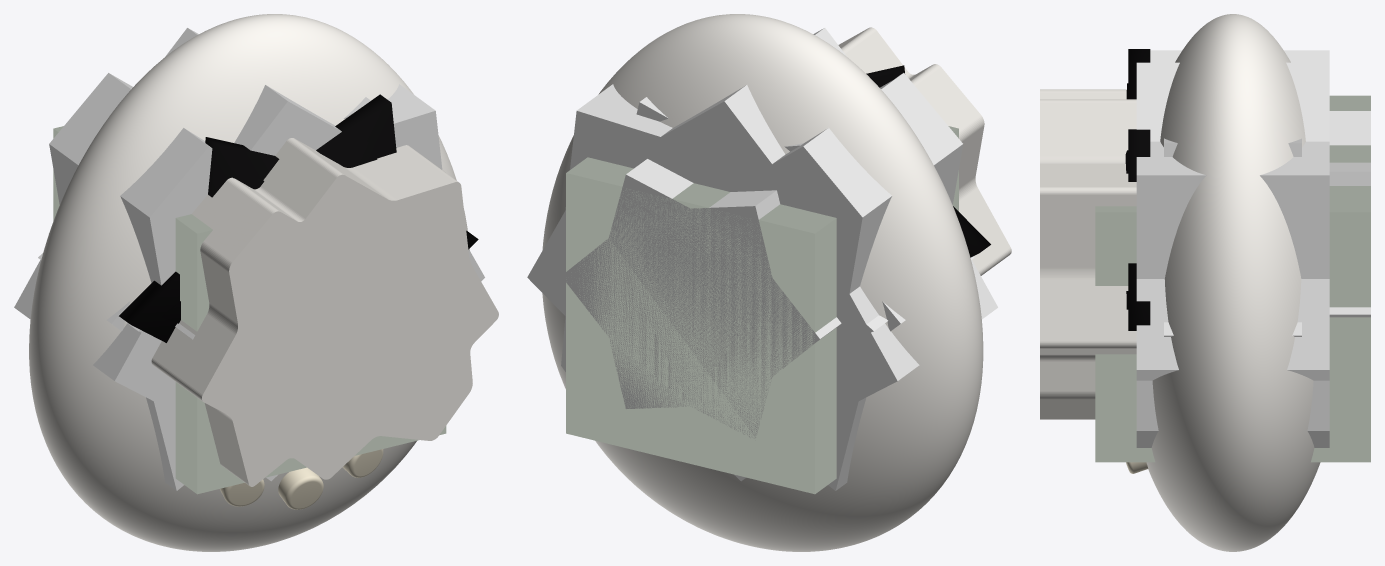
The model's file is tamagotchi.glb.
3 views of the same model, side by side, from view 1: azimuth 30°, elevation 25°; view 2: azimuth 150°, elevation 25°; view 3: azimuth 270°, elevation 25° (orthographic). The views are drawn at different scales.
Parts seen in each view (by area): view 1: CrackCutter.013, Tamagotchi_Body, Co, BoolHole, Cube, Button_Middle, Co.002, Button_Left, Button_Right; view 2: Tamagotchi_Body, Cube, StarCutter, Co, CrackCutter.013, Co.002, StarCutter.006, BoolHole, StarCutter.003; view 3: Tamagotchi_Body, Co, CrackCutter.013, Cube, StarCutter, BoolHole, StarCutter.003.
Part boxes in pixels (x1=…): CrackCutter.013: x1=151, y1=138, x2=498, y2=486; Tamagotchi_Body: x1=29, y1=14, x2=469, y2=551; Co: x1=14, y1=28, x2=484, y2=490; BoolHole: x1=119, y1=94, x2=478, y2=342; Cube: x1=53, y1=126, x2=446, y2=494; Button_Middle: x1=278, y1=467, x2=323, y2=509; Co.002: x1=141, y1=126, x2=421, y2=398; Button_Left: x1=220, y1=479, x2=264, y2=506; Button_Right: x1=342, y1=449, x2=383, y2=477; Tamagotchi_Body: x1=542, y1=14, x2=983, y2=551; Cube: x1=566, y1=126, x2=958, y2=494; StarCutter: x1=561, y1=159, x2=841, y2=438; Co: x1=527, y1=28, x2=997, y2=490; CrackCutter.013: x1=838, y1=27, x2=1011, y2=275; Co.002: x1=551, y1=125, x2=868, y2=397; StarCutter.006: x1=551, y1=123, x2=974, y2=345; BoolHole: x1=866, y1=65, x2=990, y2=257; StarCutter.003: x1=636, y1=97, x2=905, y2=331; Tamagotchi_Body: x1=1146, y1=14, x2=1320, y2=551; Co: x1=1136, y1=50, x2=1329, y2=447; CrackCutter.013: x1=1040, y1=89, x2=1136, y2=419; Cube: x1=1095, y1=95, x2=1370, y2=462; StarCutter: x1=1329, y1=111, x2=1370, y2=317; BoolHole: x1=1125, y1=49, x2=1150, y2=330; StarCutter.003: x1=1164, y1=138, x2=1301, y2=336.
Bounding box in the file's own units: 1.71 × 2 × 1.2.
